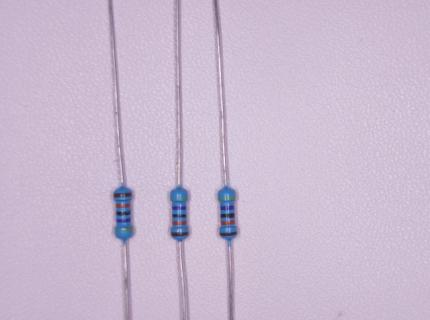Black band: (116, 211, 131, 216), (220, 213, 235, 218), (172, 214, 187, 218)
Brown band: (113, 192, 132, 198), (171, 232, 189, 237), (220, 231, 237, 236)
Orange band: (116, 203, 130, 208), (221, 220, 234, 225), (173, 221, 187, 225)
Violet band: (116, 218, 130, 223), (220, 206, 234, 211), (172, 206, 187, 210)
Yellow band: (115, 228, 133, 233), (218, 196, 236, 200), (170, 197, 188, 200)
